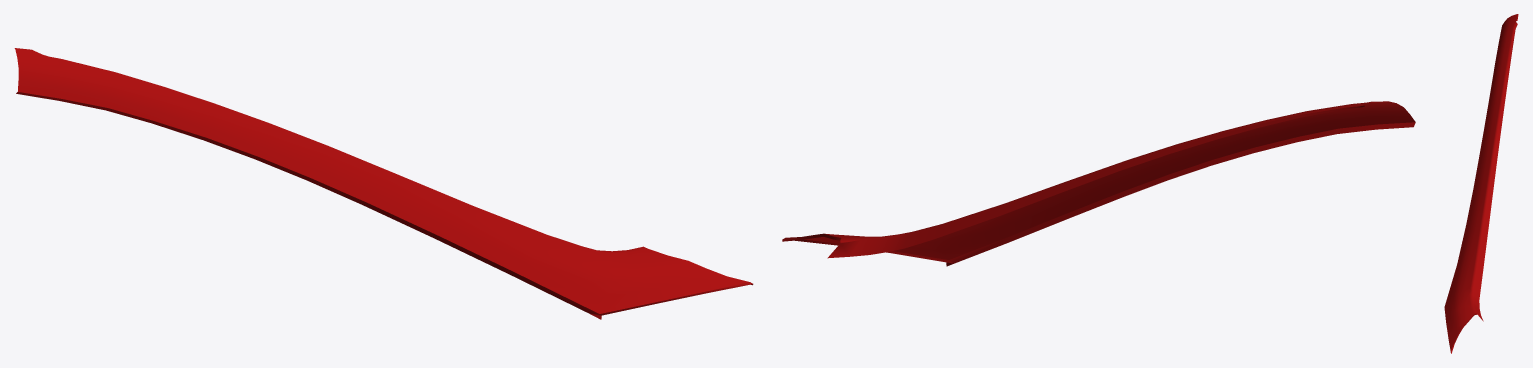
The picture shows the model from 3 angles, left to right: view 1: azimuth 30°, elevation 25°; view 2: azimuth 150°, elevation 25°; view 3: azimuth 270°, elevation 25°; orthographic projection. The views are drawn at different scales.
Visible parts, largest first — view 1: Y175_18_181C_R_1_DaS_Y175_18_181C_R, Y175_18_181C_R_1_DaS_Y175_18_181C_R_E; view 2: Y175_18_181C_R_1_DaS_Y175_18_181C_R, Y175_18_181C_R_1_DaS_Y175_18_181C_R_E; view 3: Y175_18_181C_R_1_DaS_Y175_18_181C_R, Y175_18_181C_R_1_DaS_Y175_18_181C_R_E.
Boxes of the visible parts, x1,y1,x2,y2 form: Y175_18_181C_R_1_DaS_Y175_18_181C_R: (14, 48, 749, 313); Y175_18_181C_R_1_DaS_Y175_18_181C_R_E: (16, 92, 753, 319); Y175_18_181C_R_1_DaS_Y175_18_181C_R: (804, 101, 1415, 259); Y175_18_181C_R_1_DaS_Y175_18_181C_R_E: (782, 105, 1415, 266); Y175_18_181C_R_1_DaS_Y175_18_181C_R: (1444, 14, 1518, 350); Y175_18_181C_R_1_DaS_Y175_18_181C_R_E: (1448, 25, 1517, 353).
Bounding box in the file's own units: 95.92 × 47.15 × 17.97.
